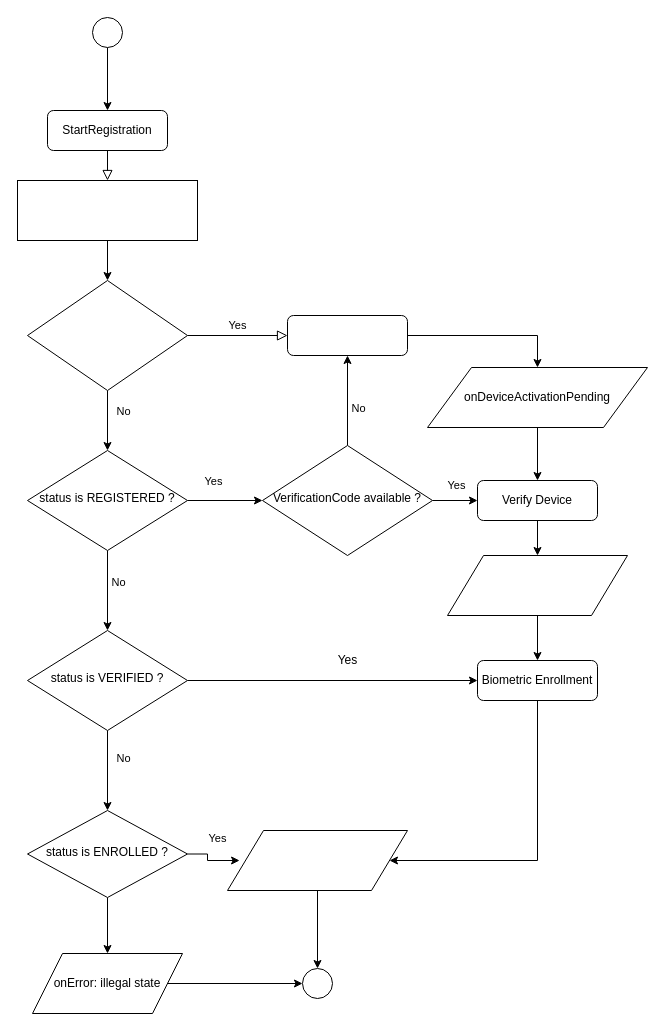
Image size: 665x1031. Some labels were removed from this diagram. The box of each missing label's shape, as (x1, y1, x2, y2) in pixels:
Device Registration: (286, 314, 408, 356)
onDeviceRegistered: (446, 554, 628, 616)
onEnrollmentDone: (226, 830, 408, 890)
status = getCurrentStatus(): (16, 180, 198, 240)
status is UNKNOWN ?: (26, 280, 188, 390)
